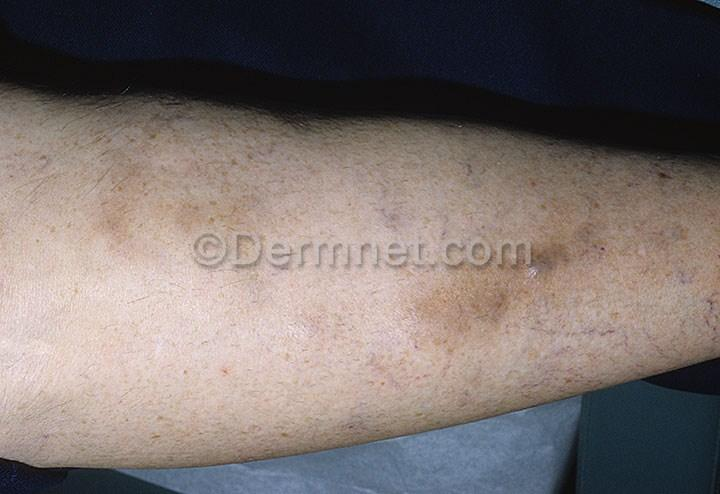Eczema: (69, 147, 274, 315), (436, 189, 627, 360)
